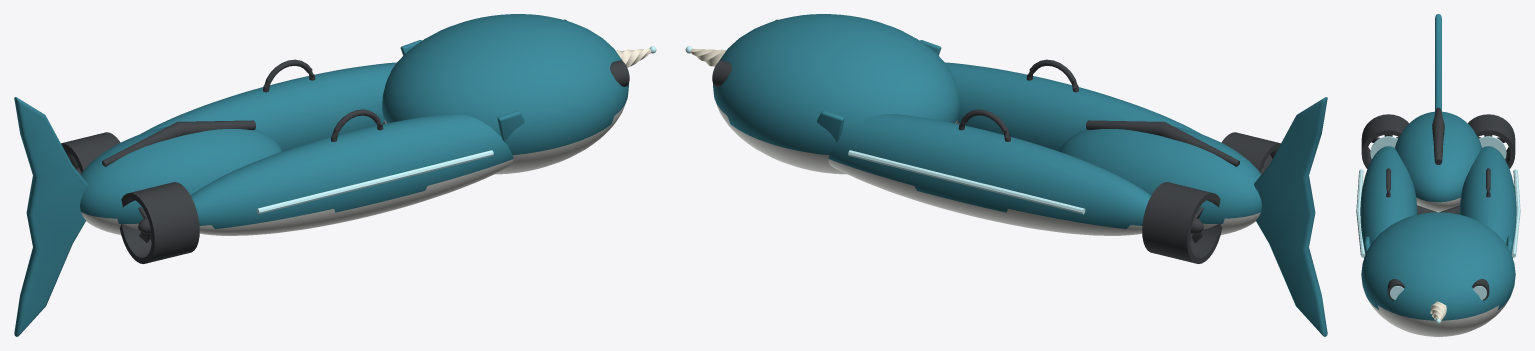
File: SM_Narwhal_Chassis_Collapsed.fbx
The picture shows the model from 3 angles, left to right: view 1: azimuth 30°, elevation 25°; view 2: azimuth 150°, elevation 25°; view 3: azimuth 270°, elevation 25°; orthographic projection. The views are drawn at different scales.
Parts seen in each view (by area): view 1: SM_Narwhal_Chassis_Collapsed; view 2: SM_Narwhal_Chassis_Collapsed; view 3: SM_Narwhal_Chassis_Collapsed.
Boxes of the visible parts, x1,y1,x2,y2 form: SM_Narwhal_Chassis_Collapsed: [14, 14, 656, 336]; SM_Narwhal_Chassis_Collapsed: [685, 14, 1327, 336]; SM_Narwhal_Chassis_Collapsed: [1356, 14, 1520, 336].
Size of what is drawn, in the model's own units: 599 by 213 by 181.
